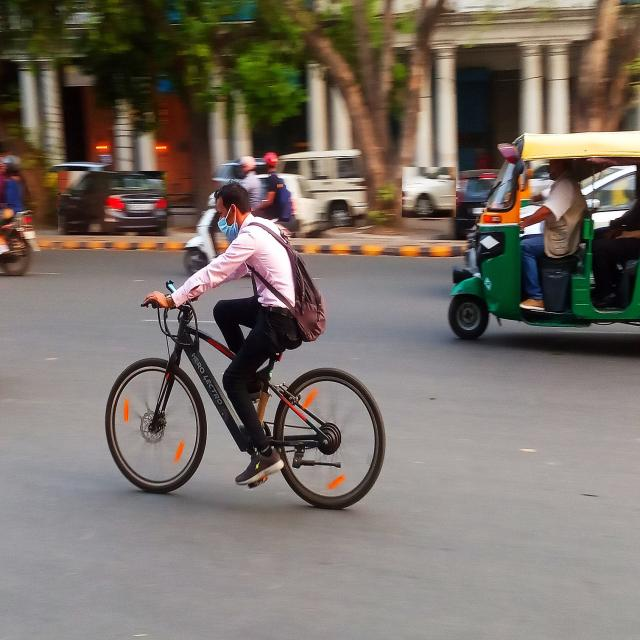autorickshaw: (449, 132, 640, 339)
bicycle: (105, 183, 385, 509)
car: (280, 150, 366, 231), (59, 171, 167, 232), (455, 170, 498, 239), (402, 167, 456, 217)
motorcycle: (0, 156, 36, 276)
